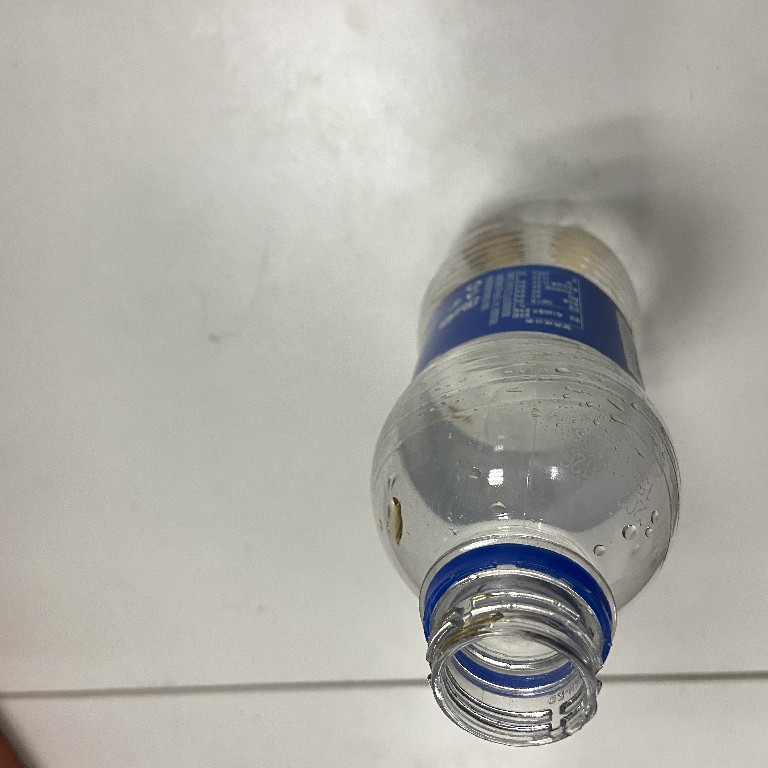bottle: (362, 210, 698, 750)
